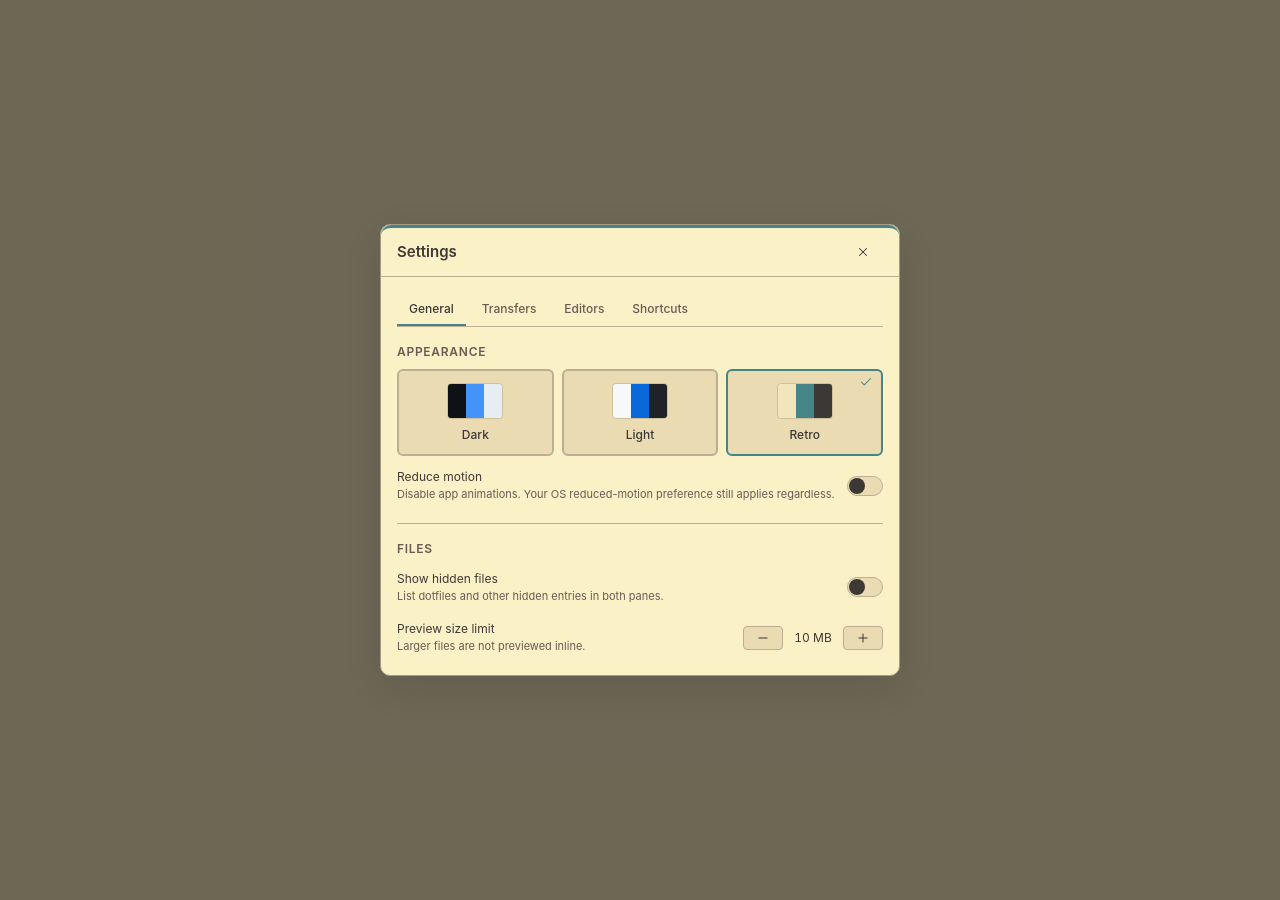
Scenario: SettingsModal — General tab › steps the preview size limit within its bounds
The image size is (1280, 900).
Click the button named "Increase preview size limit" at (863, 638), box [843,626,883,650]
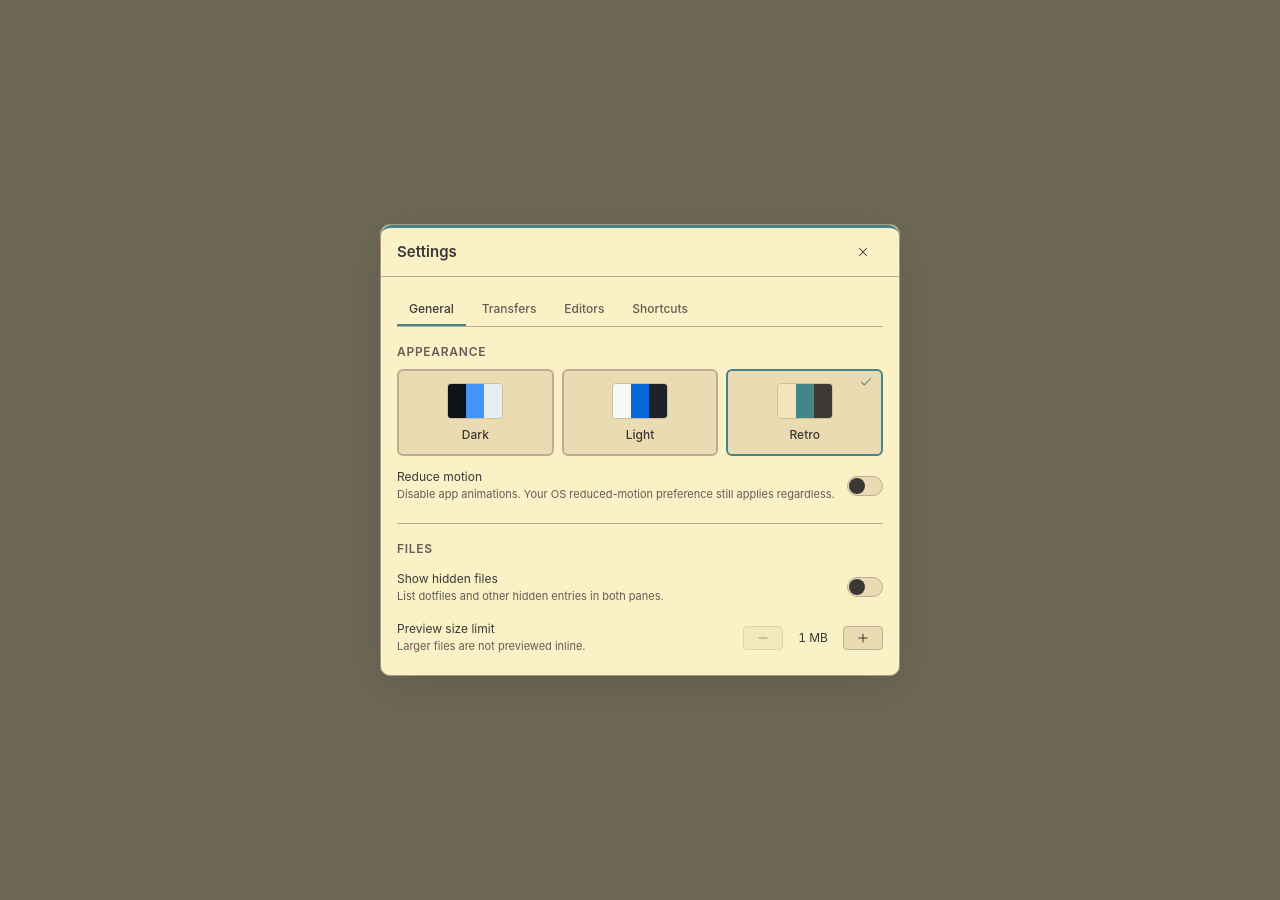
Expected: the button named "Decrease preview size limit" is disabled, [743,626,783,650]
